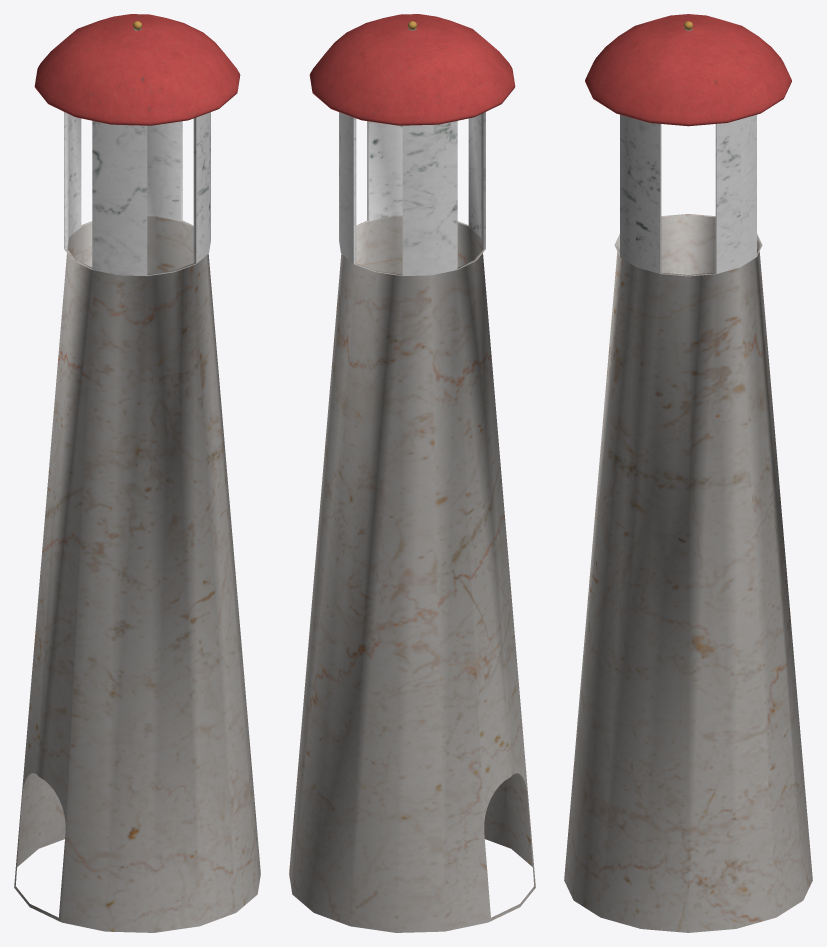
The model's file is Top.fbx.
3 views of the same model, side by side, from view 1: azimuth 30°, elevation 25°; view 2: azimuth 150°, elevation 25°; view 3: azimuth 270°, elevation 25° (orthographic).
Visible parts, largest first — view 1: Top_Baked; view 2: Top_Baked; view 3: Top_Baked.
Part boxes in pixels (bbox=[...]): Top_Baked: bbox=[14, 14, 260, 932]; Top_Baked: bbox=[289, 14, 535, 932]; Top_Baked: bbox=[564, 14, 812, 932].
Bounding box in the file's own units: 439 × 1670 × 439.
